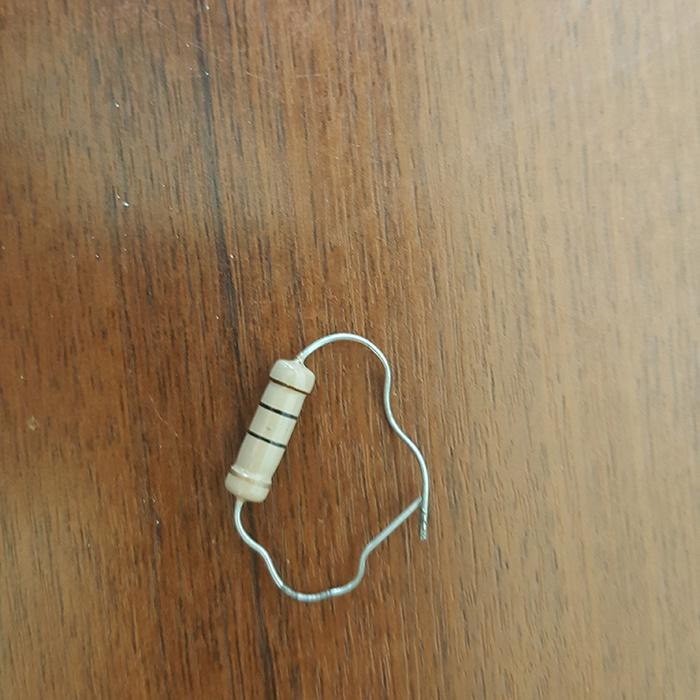resistor: (225, 358, 315, 500)
